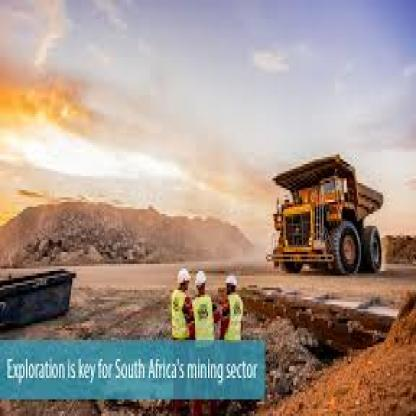dump_truck: (269, 154, 390, 283)
